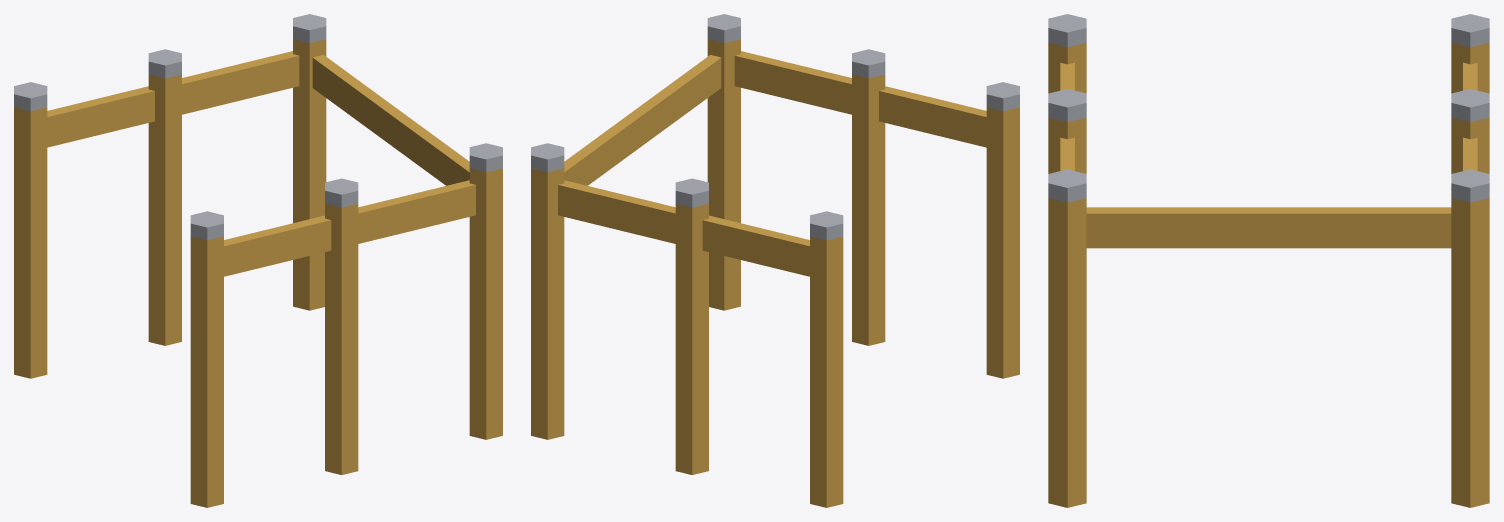
The model's file is SM_Prop_Pole_Barrier_04.fbx.
3 renders of one model, left to right at view 1: azimuth 30°, elevation 25°; view 2: azimuth 150°, elevation 25°; view 3: azimuth 270°, elevation 25°, orthographic. The views are drawn at different scales.
Parts seen in each view (by area): view 1: SM_Prop_Pole_Barrier_04; view 2: SM_Prop_Pole_Barrier_04; view 3: SM_Prop_Pole_Barrier_04.
Boxes of the visible parts, left/top/right/bottom form: SM_Prop_Pole_Barrier_04: left=14, top=14, right=502, bottom=507; SM_Prop_Pole_Barrier_04: left=531, top=14, right=1019, bottom=507; SM_Prop_Pole_Barrier_04: left=1048, top=14, right=1489, bottom=507.
Size of the model in its own units: 153 by 132 by 164.
